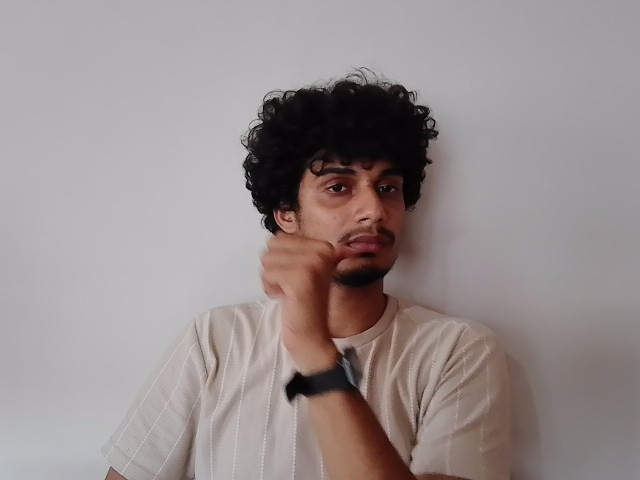drink: (262, 157, 413, 319)
